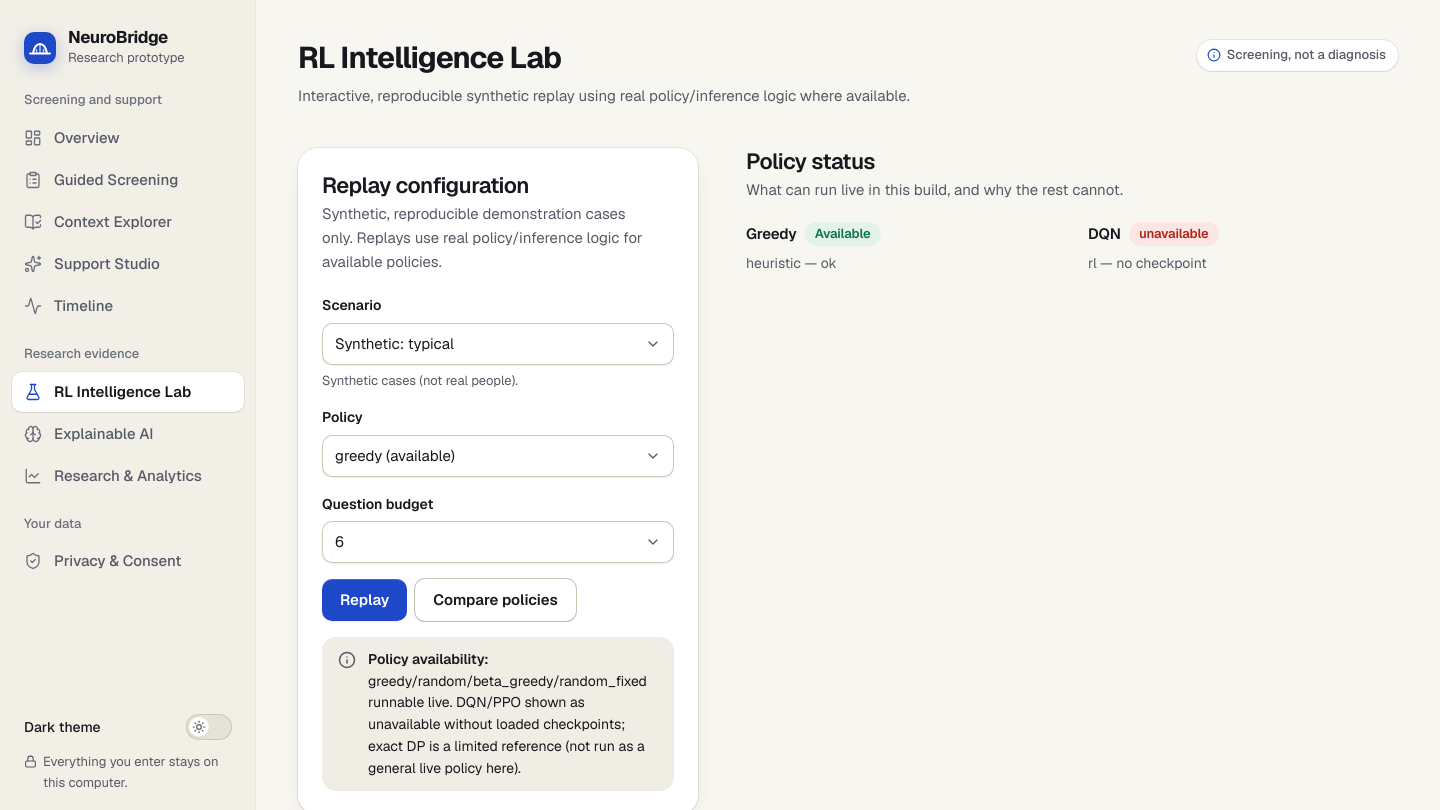
Scenario: RL Intelligence Lab › replays a scenario and steps through it
Expected: the text "unavailable" is shown, top-left (1129, 222), bottom-right (1219, 246)
Click the button "Replay". click: (365, 600)
box: top-left (322, 579), bottom-right (407, 621)
(page scrolled)
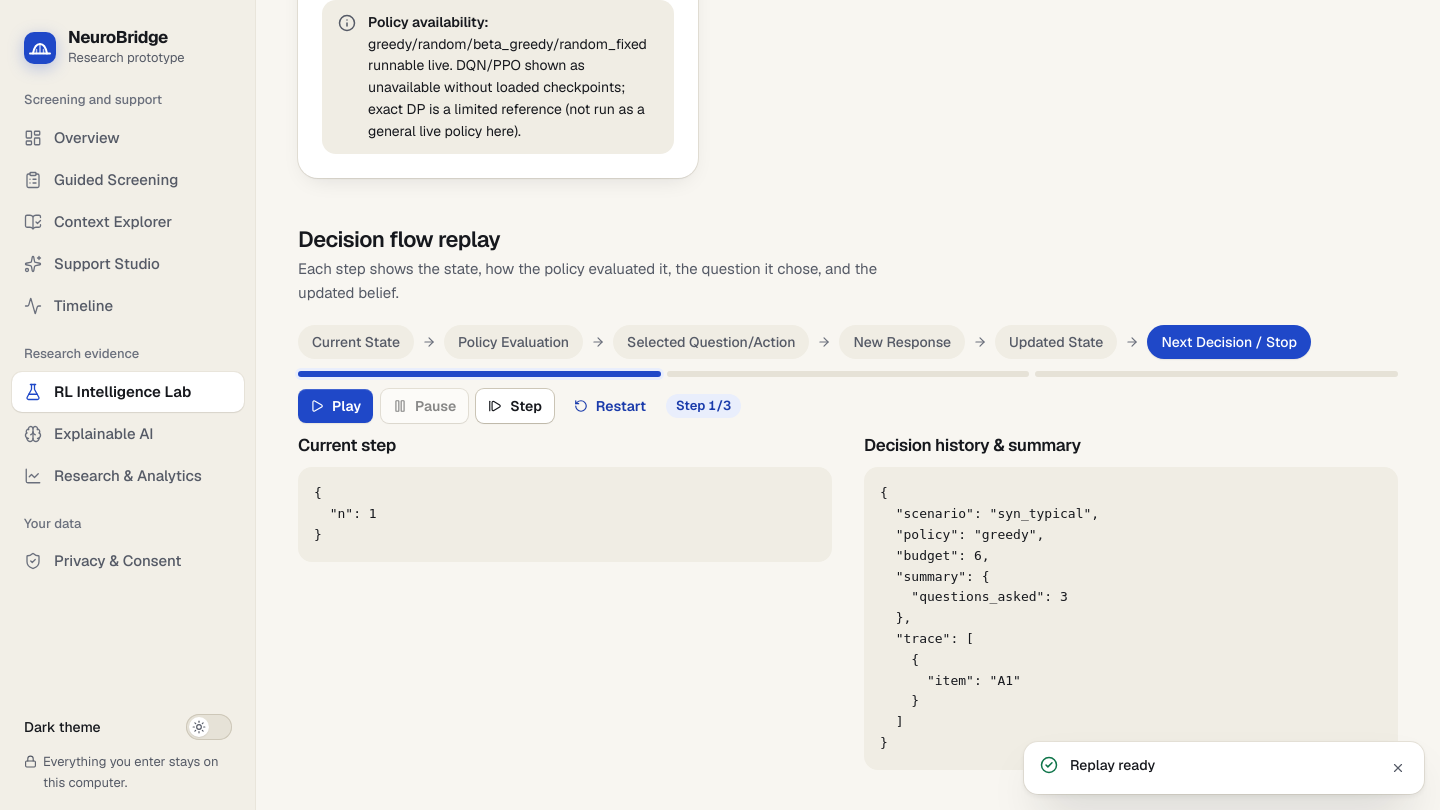
Expected: the text "Step 1/3" is shown, top-left (666, 394), bottom-right (741, 418)
Click the button "Step". click: (515, 406)
box: top-left (476, 389), bottom-right (554, 423)
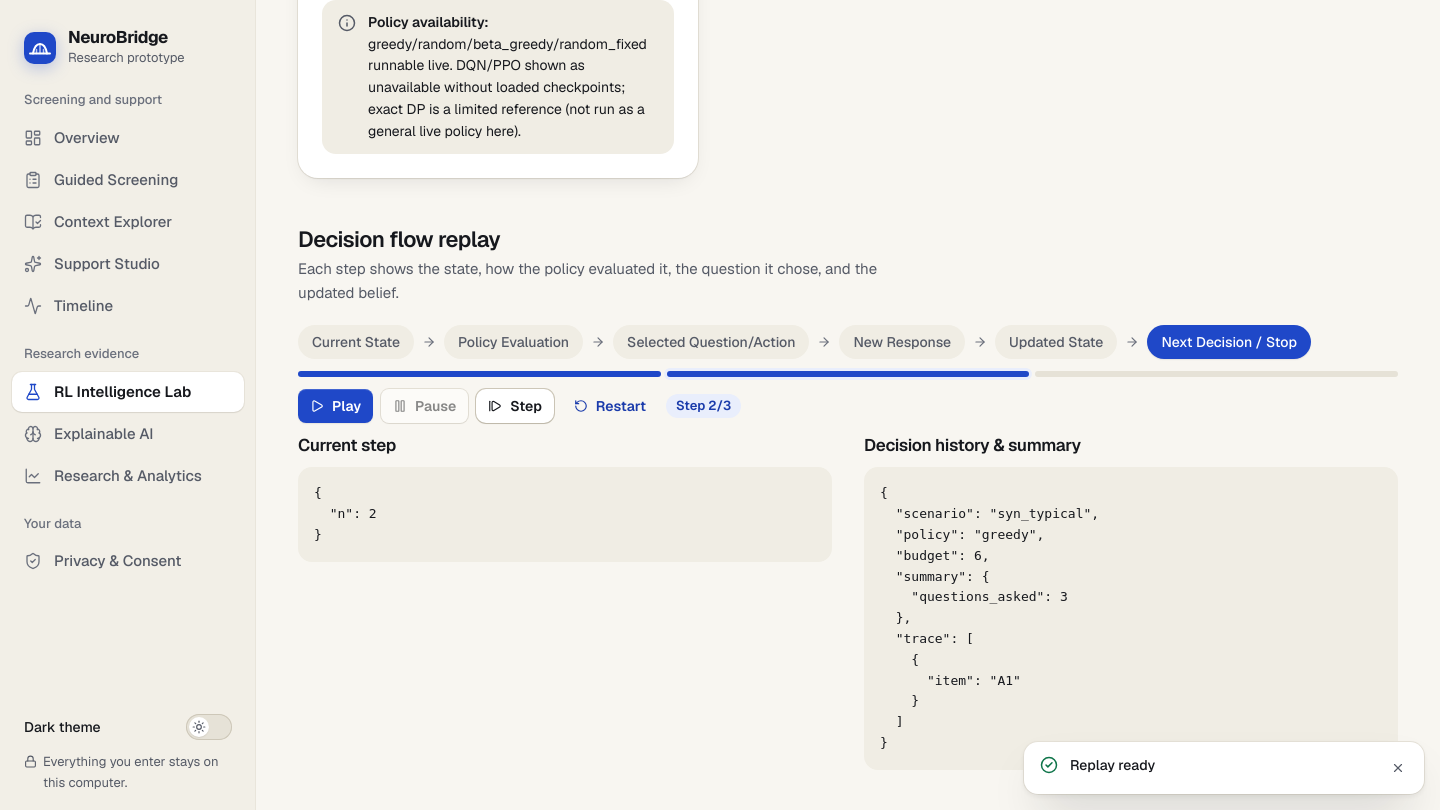
Expected: the text "Step 2/3" is shown, top-left (666, 394), bottom-right (741, 418)
Click the button "Restart". click: (610, 406)
box: top-left (562, 389), bottom-right (658, 423)
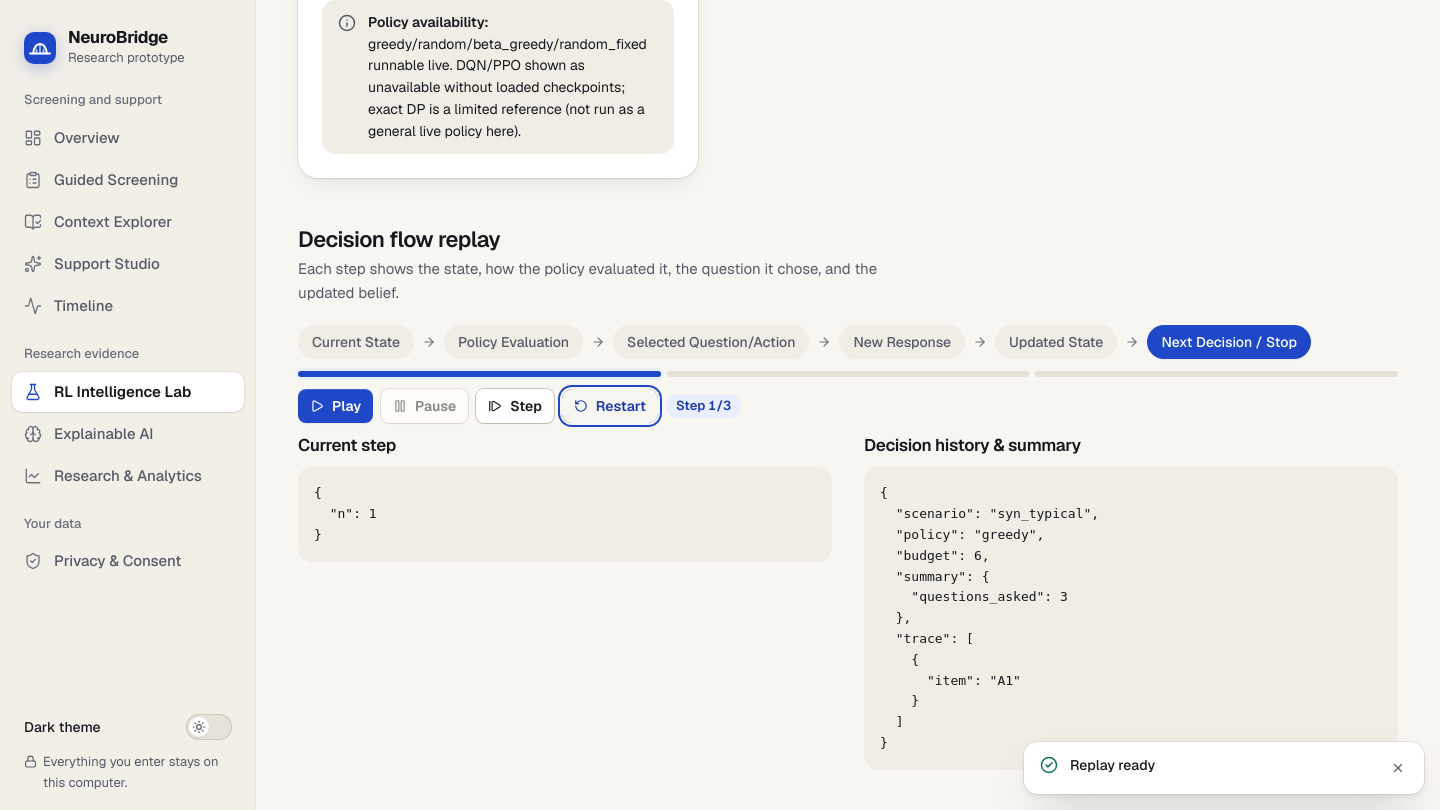
Expected: the text "Step 1/3" is shown, top-left (666, 394), bottom-right (741, 418)
